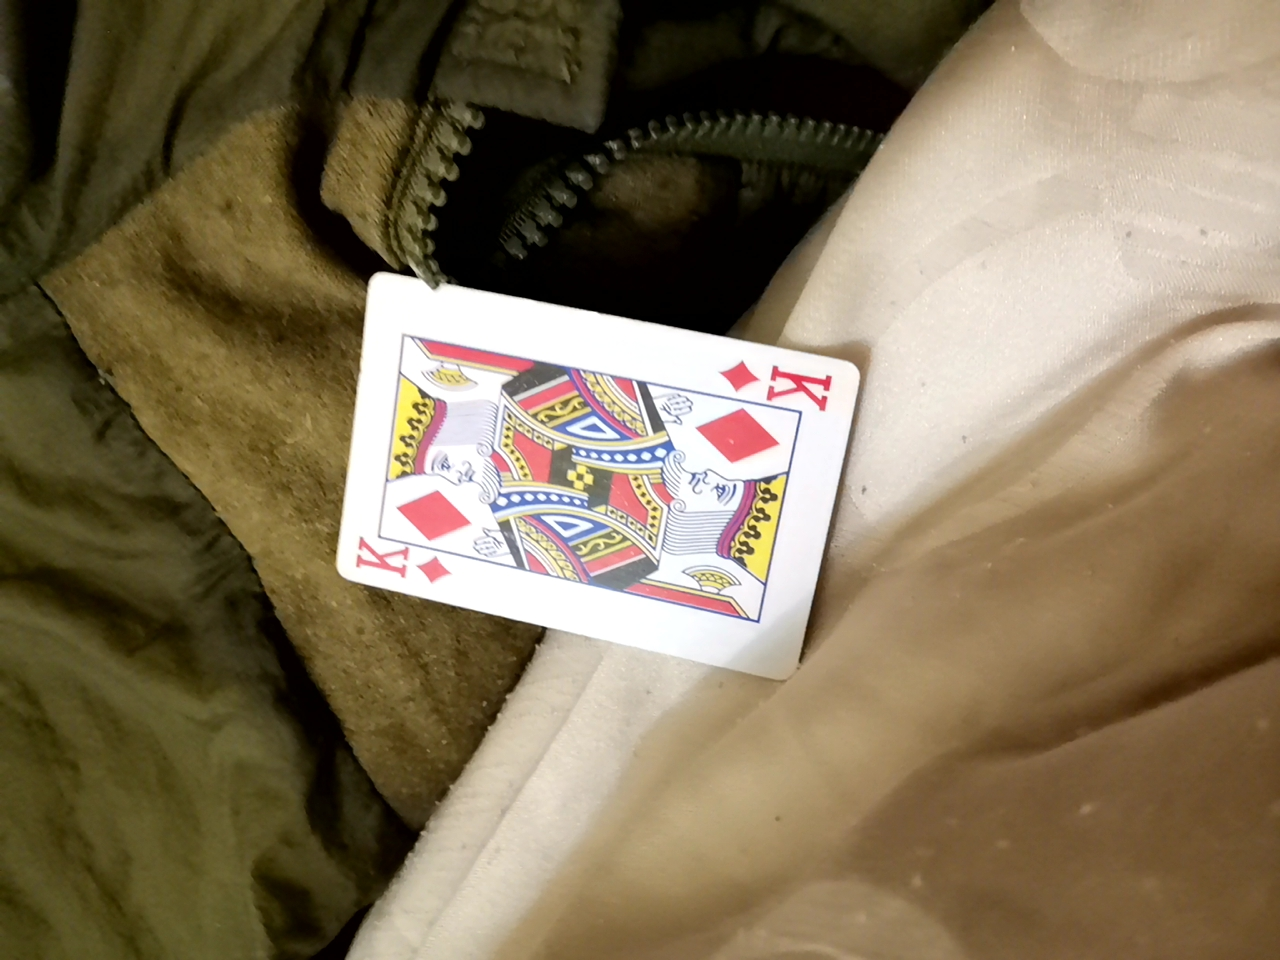fk k: (313, 301, 838, 720)
